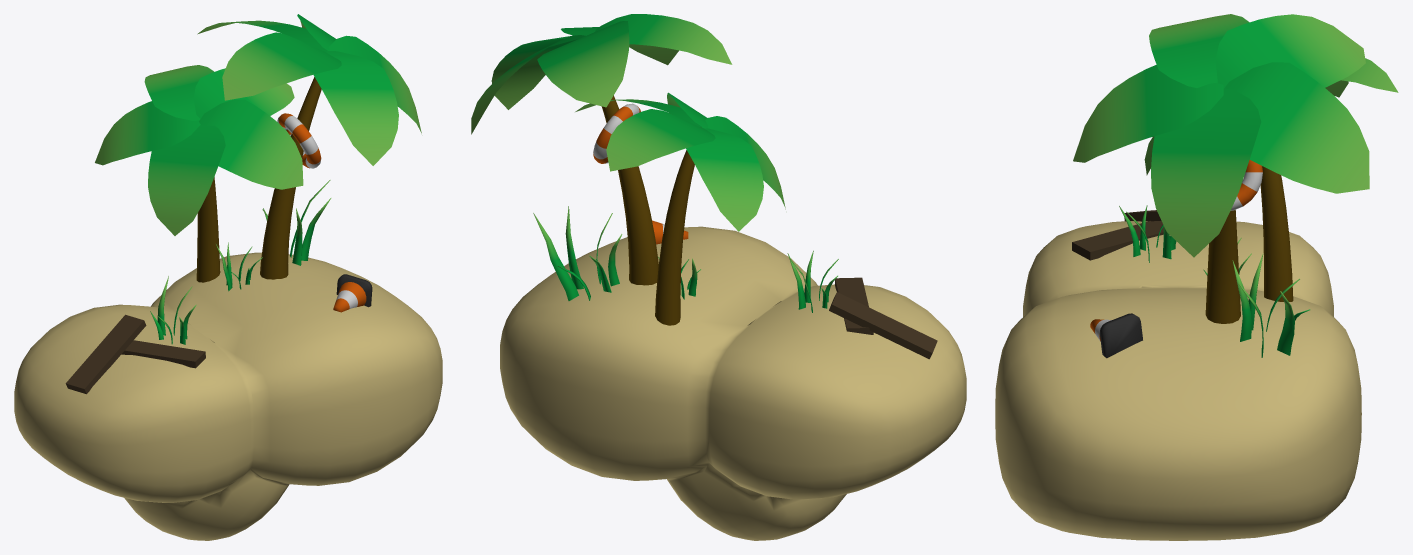
The model's file is Background 1.fbx.
3 views of the same model, side by side, from view 1: azimuth 30°, elevation 25°; view 2: azimuth 150°, elevation 25°; view 3: azimuth 270°, elevation 25° (orthographic). The views are drawn at different scales.
Parts seen in each view (by area): view 1: Background 1; view 2: Background 1; view 3: Background 1.
Part boxes in pixels (x1,y1,x2,y2): Background 1: (14, 14, 442, 540); Background 1: (471, 14, 966, 540); Background 1: (995, 14, 1398, 540).
Bounding box in the file's own units: 312 × 339 × 220.
Materials: 1 (1 with a texture image).
